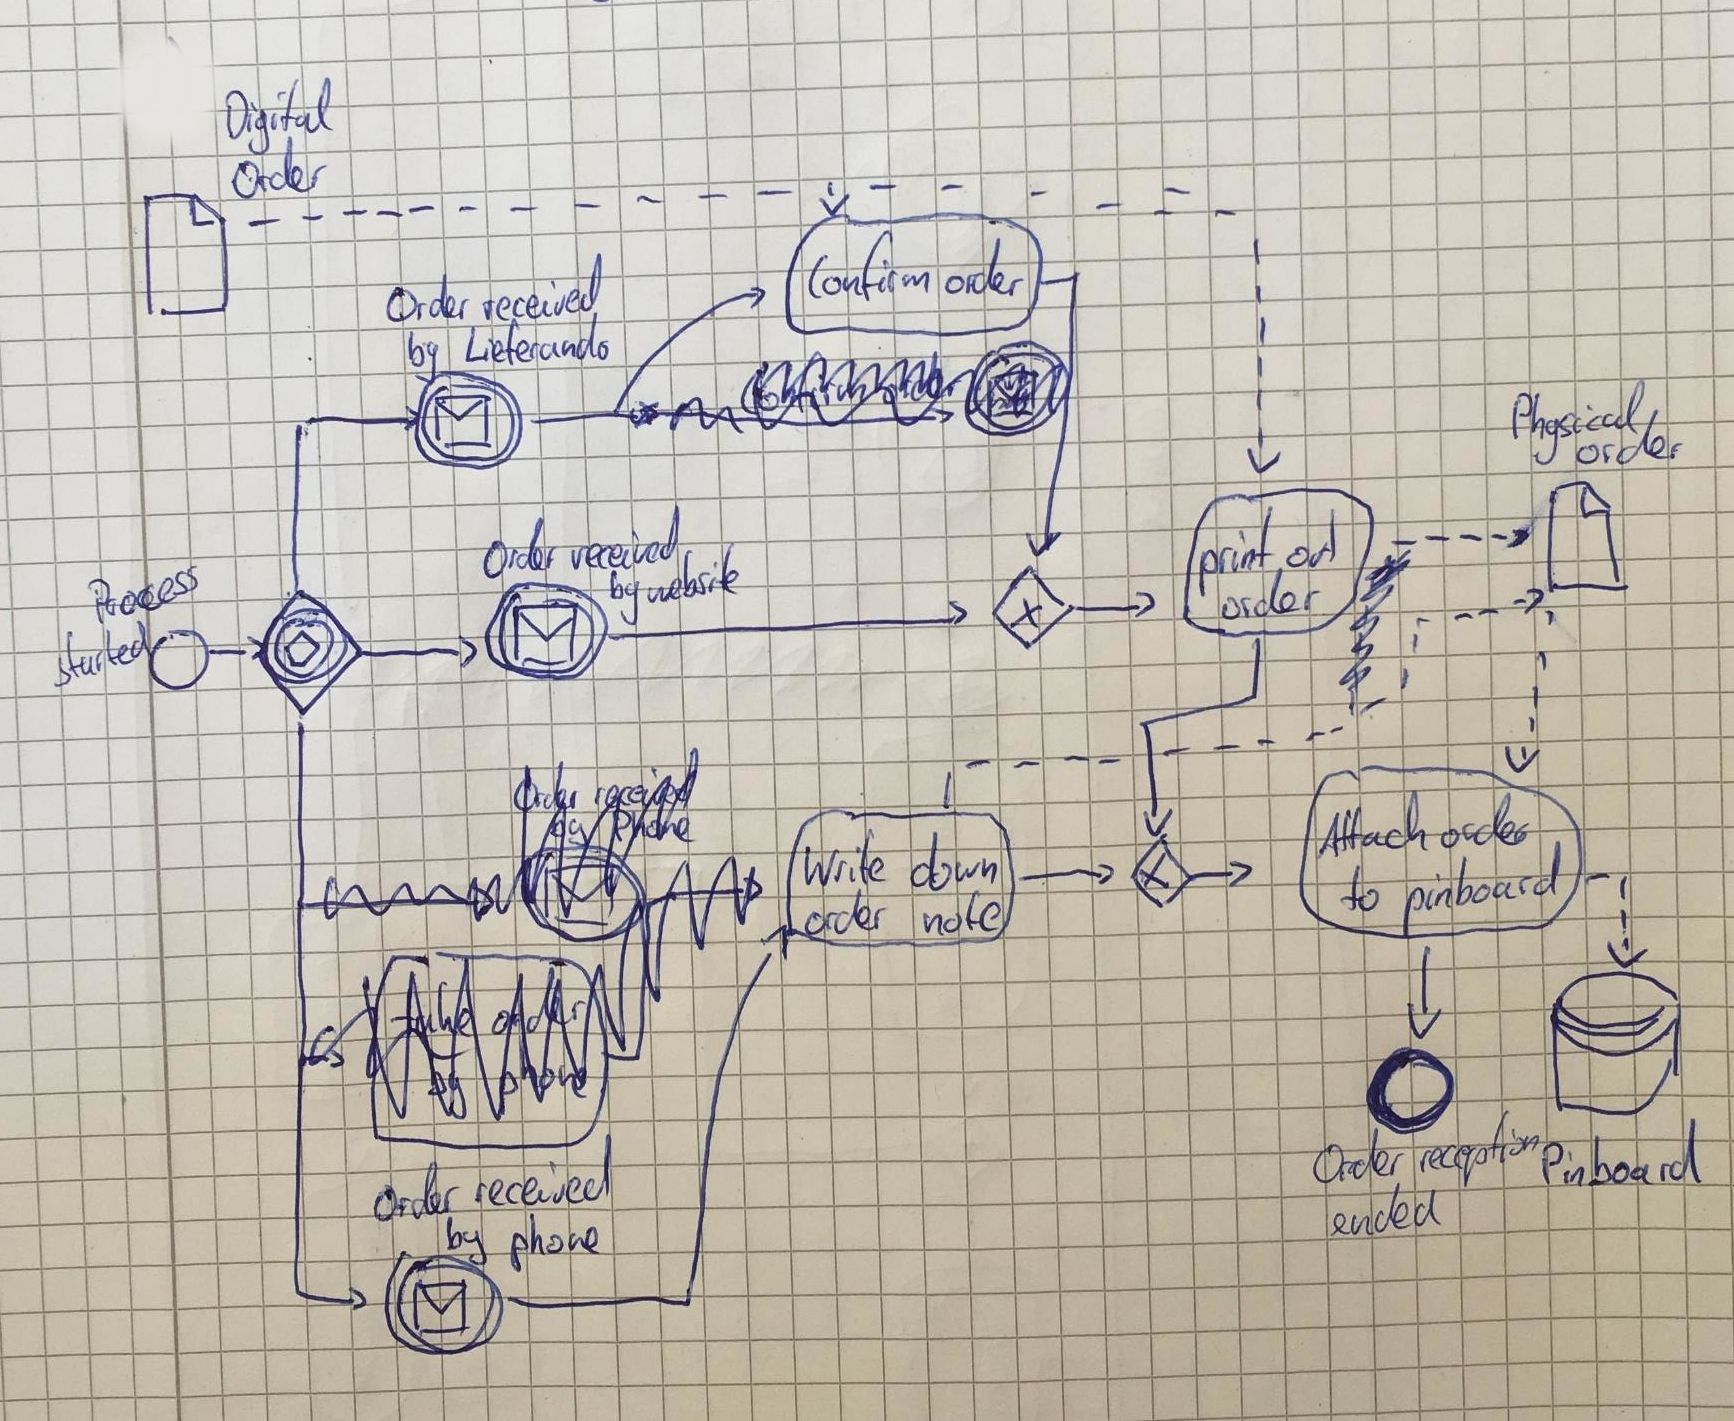Attach: (1318, 790, 1426, 858)
Confirm: (809, 230, 930, 305)
Digital: (220, 76, 336, 143)
Lieferando: (459, 320, 609, 369)
Order: (230, 140, 327, 202), (367, 1166, 464, 1224), (1313, 1127, 1406, 1183), (482, 515, 559, 582), (382, 274, 474, 324)
Physical: (1501, 379, 1645, 439)
Pinboard: (1540, 1119, 1702, 1183)
Process: (84, 576, 200, 623)
Write: (802, 831, 887, 887)
by: (442, 1214, 493, 1266), (603, 572, 645, 623), (403, 331, 442, 383)
down: (909, 834, 999, 890)
ended: (1329, 1183, 1442, 1241)
note: (922, 891, 1001, 939)
order: (1570, 429, 1679, 478), (940, 238, 1025, 299), (1221, 570, 1322, 621), (1440, 793, 1532, 848), (804, 890, 890, 934)
out: (1282, 508, 1339, 572)
phone: (504, 1214, 599, 1267)
pinboard: (1396, 862, 1564, 936)
print: (1195, 502, 1272, 595)
received: (472, 1137, 616, 1211), (478, 253, 606, 320), (565, 505, 684, 572)
reception: (1410, 1130, 1537, 1192)
started: (40, 641, 145, 693)
to: (1339, 867, 1380, 916)
website: (639, 557, 740, 612)
